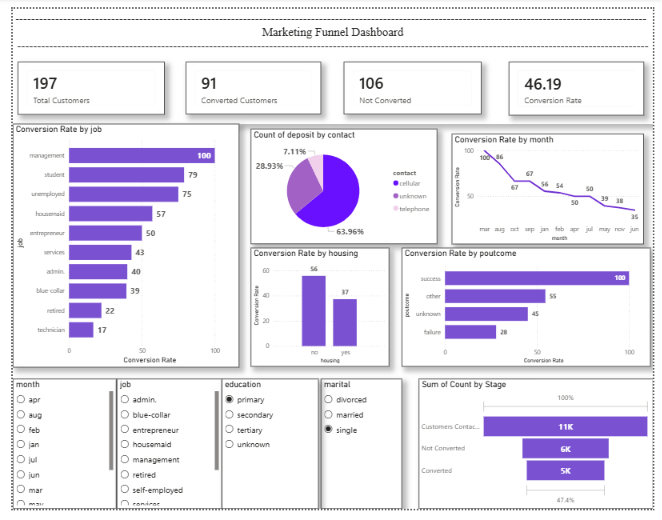

The dashboard page shown, as its layout file describes it:
{"tool":"powerbi","page":{"name":"Page 1","canvas":[1280,1000],"ordinal":0},"visuals":[{"type":"textbox","box":[0,0,1280.3,230.5],"z":0},{"type":"cardVisual","fields":{"Data":["bank.Total Customers"]},"box":[11,105.7,293.7,105.7],"z":1000},{"type":"cardVisual","fields":{"Data":["bank.Converted Customers"]},"box":[345,105,270,105],"z":2000},{"type":"cardVisual","fields":{"Data":["bank.Not Converted"]},"box":[662.5,105,275,105],"z":3000},{"type":"cardVisual","fields":{"Data":["bank.Conversion Rate"]},"box":[992.5,105,270,107.5],"z":4000},{"type":"clusteredBarChart","fields":{"Category":["bank.job"],"Y":["bank.Conversion Rate"]},"box":[0,230,452.5,487.5],"z":5000},{"type":"lineChart","fields":{"Category":["bank.month"],"Y":["bank.Conversion Rate"]},"box":[878.1,249.7,383.8,220.8],"z":6000},{"type":"pieChart","fields":{"Category":["bank.contact"],"Y":["CountNonNull(bank.deposit)"]},"box":[475,240,372.5,230],"z":7000},{"type":"clusteredColumnChart","fields":{"Category":["bank.housing"],"Y":["bank.Conversion Rate"]},"box":[475.5,478.9,276.8,237.8],"z":8000},{"type":"barChart","fields":{"Category":["bank.poutcome"],"Y":["bank.Conversion Rate"]},"box":[777.9,478.9,497.6,237.8],"z":9000},{"type":"funnel","fields":{"Y":["Sum(Marketing_Funnel.Count)"],"Category":["Marketing_Funnel.Stage"]},"box":[811.8,740.5,468.8,259.9],"z":10000},{"type":"listSlicer","fields":{"Values":["bank.month"]},"box":[0,740.5,207.2,259.9],"z":11000},{"type":"listSlicer","fields":{"Values":["bank.job"]},"box":[207.2,740.5,210.6,259.9],"z":12000},{"type":"listSlicer","fields":{"Values":["bank.marital"]},"box":[615,740,162.5,260],"z":13000},{"type":"listSlicer","fields":{"Values":["bank.education"]},"box":[417.8,740.5,193.6,259.9],"z":14000}]}

Visuals, with their boxes in screenshot pixels (x1, y1, x2, y2), scaled from the page's 1280x1000 canvas onto the 662x520 screenshot:
textbox: (x1=0, y1=0, x2=661, y2=120)
cardVisual - bank.Total Customers: (x1=6, y1=55, x2=158, y2=110)
cardVisual - bank.Converted Customers: (x1=178, y1=55, x2=318, y2=109)
cardVisual - bank.Not Converted: (x1=343, y1=55, x2=485, y2=109)
cardVisual - bank.Conversion Rate: (x1=513, y1=55, x2=653, y2=110)
clusteredBarChart - bank.job x bank.Conversion Rate: (x1=0, y1=120, x2=234, y2=373)
lineChart - bank.month x bank.Conversion Rate: (x1=454, y1=130, x2=653, y2=245)
pieChart - bank.contact x CountNonNull(bank.deposit): (x1=246, y1=125, x2=438, y2=244)
clusteredColumnChart - bank.housing x bank.Conversion Rate: (x1=246, y1=249, x2=389, y2=373)
barChart - bank.poutcome x bank.Conversion Rate: (x1=402, y1=249, x2=660, y2=373)
funnel - Sum(Marketing_Funnel.Count) x Marketing_Funnel.Stage: (x1=420, y1=385, x2=661, y2=519)
listSlicer - bank.month: (x1=0, y1=385, x2=107, y2=519)
listSlicer - bank.job: (x1=107, y1=385, x2=216, y2=519)
listSlicer - bank.marital: (x1=318, y1=385, x2=402, y2=519)
listSlicer - bank.education: (x1=216, y1=385, x2=316, y2=519)
